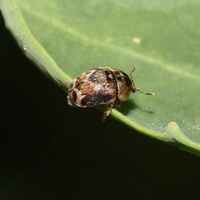insect: (67, 67, 154, 120)
